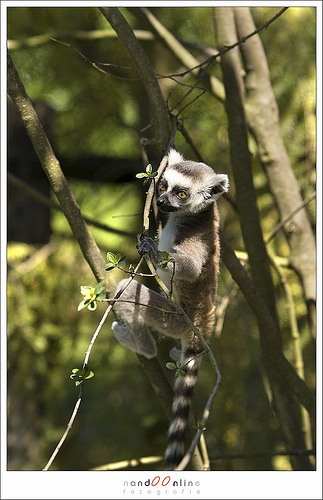cat: (106, 142, 230, 472)
